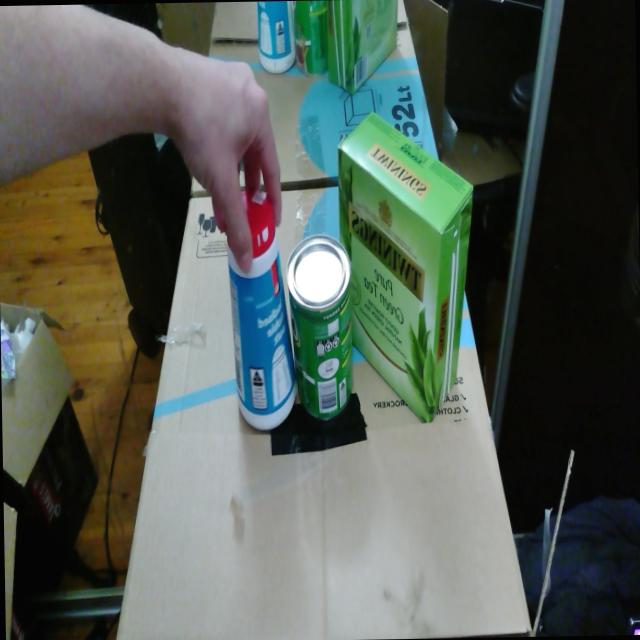nestle_milo_tin: (286, 234, 352, 420)
twinings_greentea_box: (337, 113, 472, 422)
woolworths_salt_bottle: (226, 189, 296, 429)
